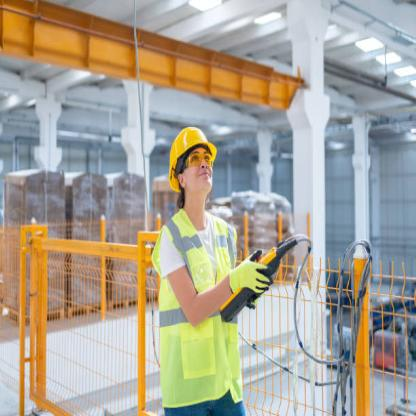capacete: (164, 124, 219, 172)
oculos: (181, 147, 216, 170)
